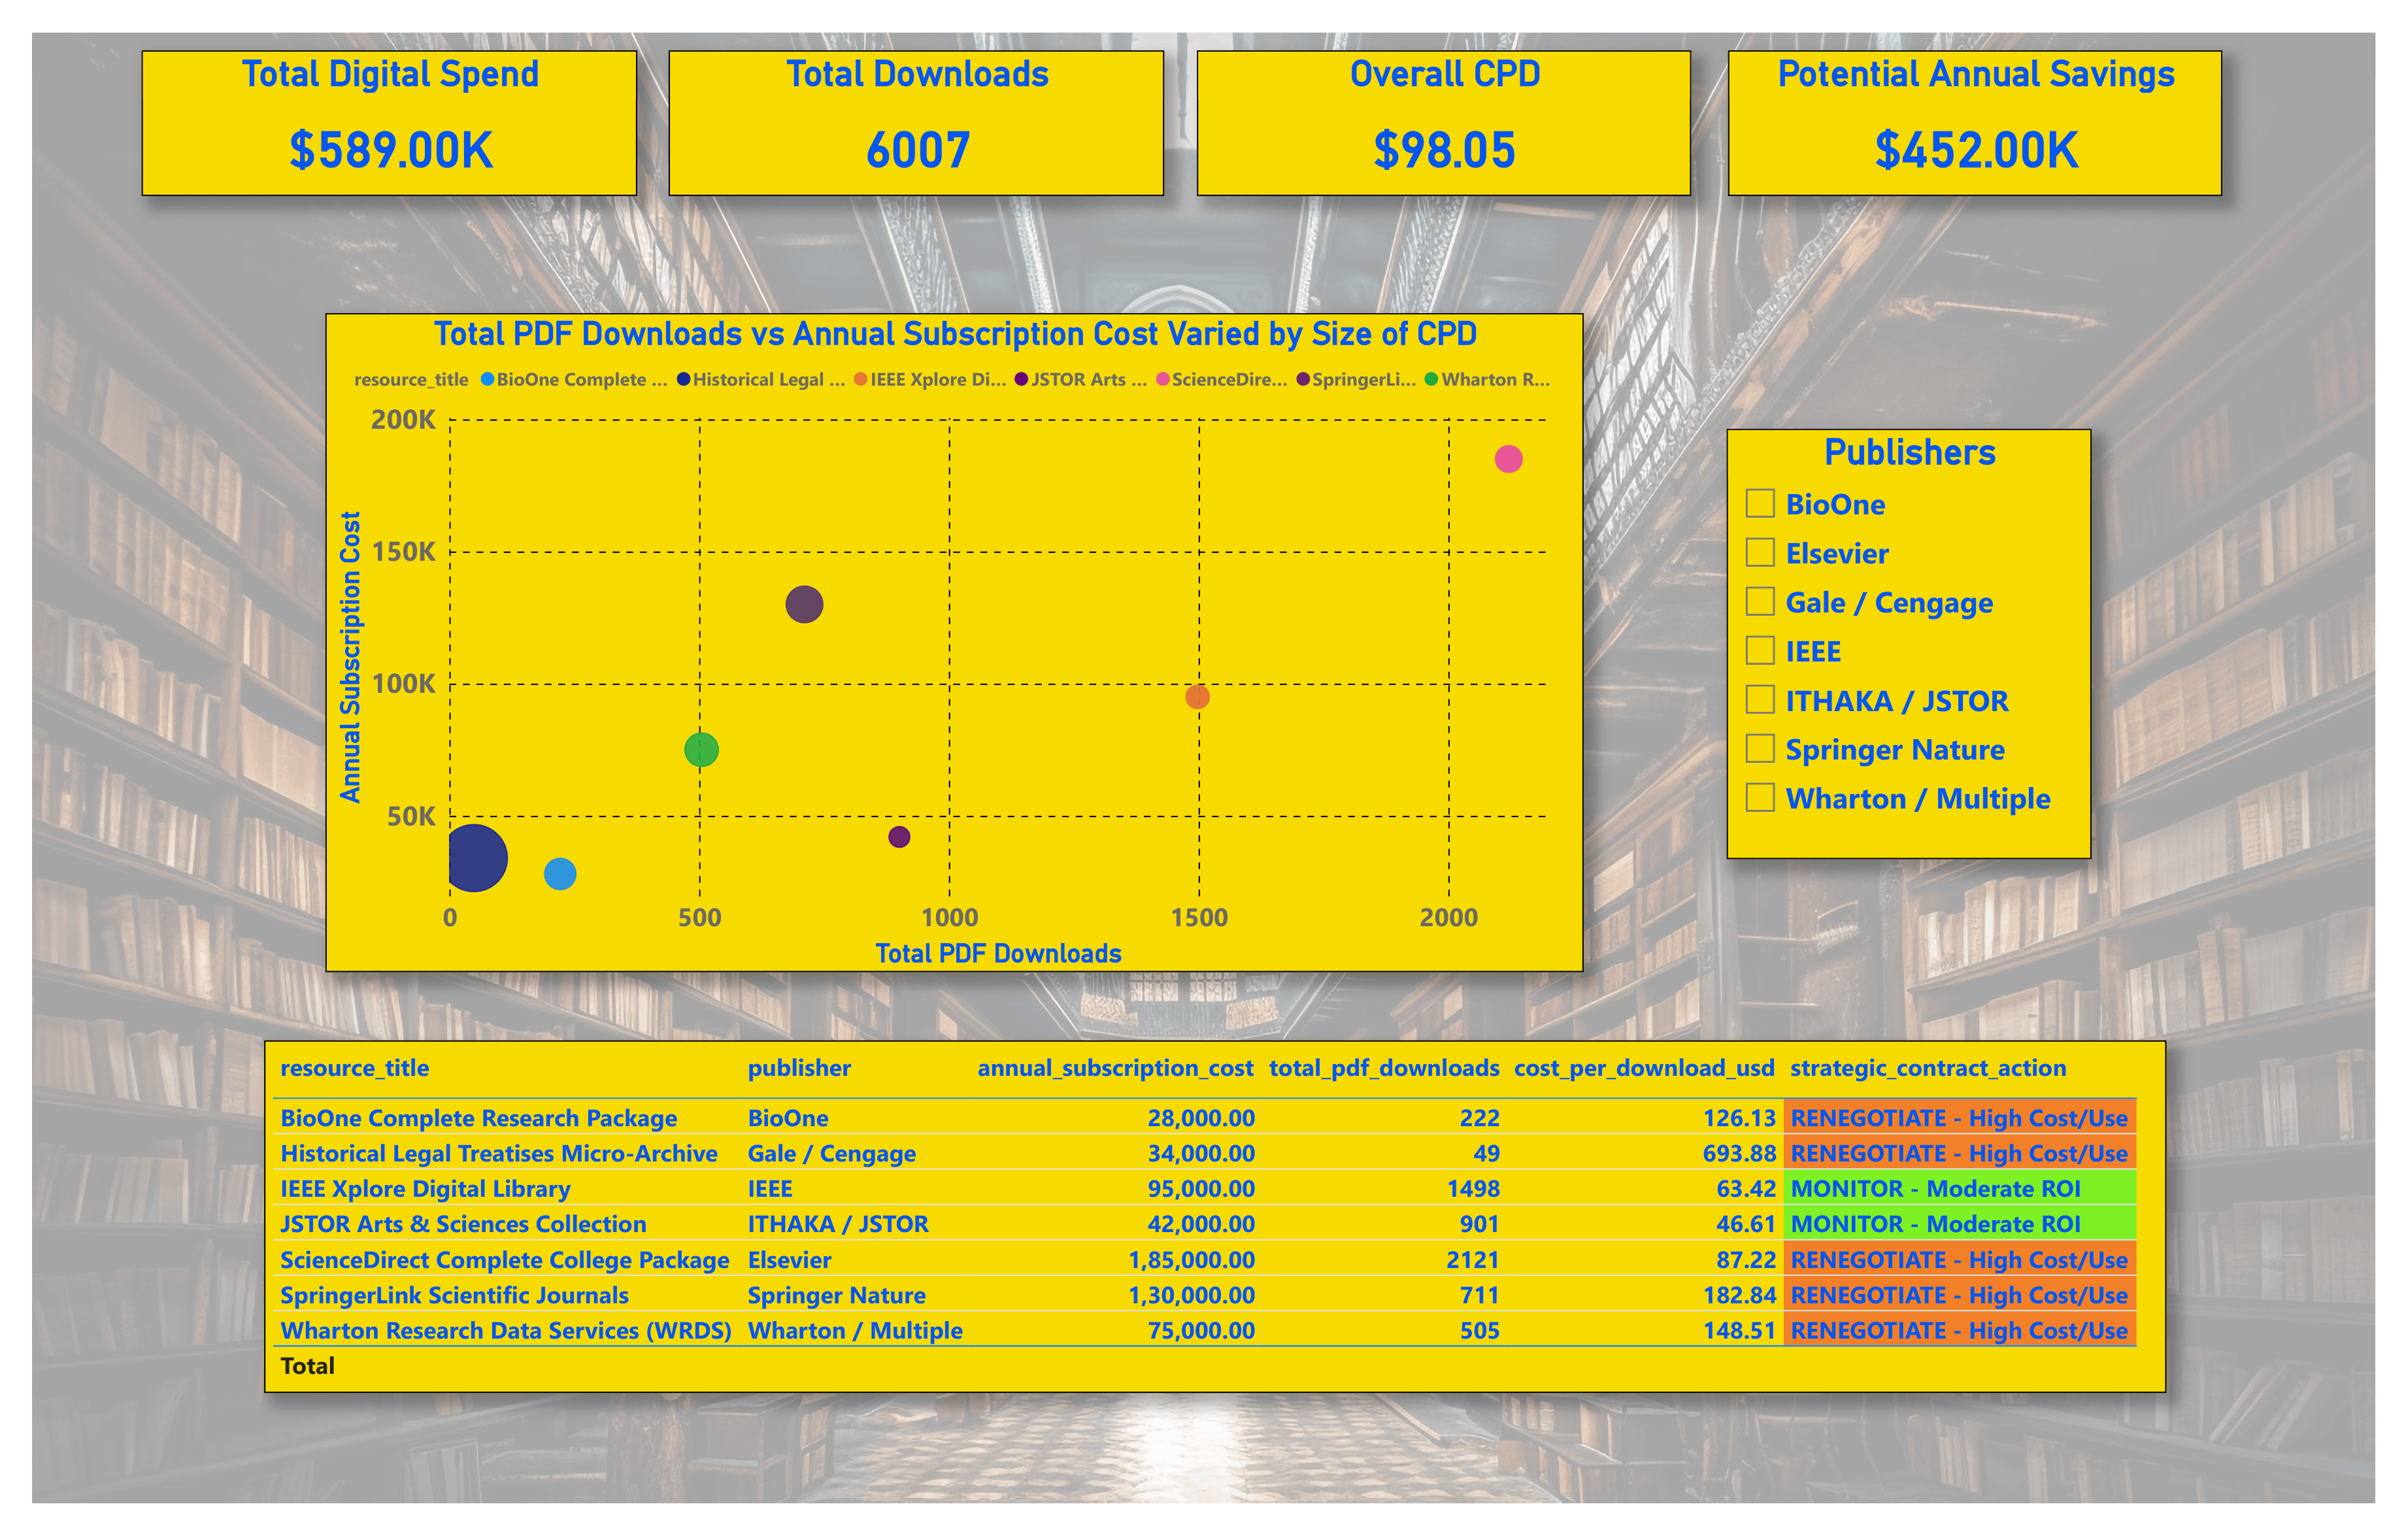

Layout of this report page (visuals, bound fields, positions):
{"tool":"powerbi","page":{"name":"Page 2: Digital ROI","canvas":[1720,1080],"ordinal":1},"visuals":[{"type":"card","title":"Total Digital Spend","fields":{"Values":["public view_kpi_publisher_roi.Total Digital Spend"]},"box":[80.1,13.1,363.7,107.3],"z":0},{"type":"card","title":"Total Downloads","fields":{"Values":["public view_kpi_publisher_roi.Total Downloads"]},"box":[466.9,13.1,363.7,107.3],"z":1000},{"type":"card","title":"Overall CPD","fields":{"Values":["public view_kpi_publisher_roi.Overall CPD"]},"box":[854.7,13.1,363.7,107.3],"z":2000},{"type":"card","title":"Potential Annual Savings","fields":{"Values":["public view_kpi_publisher_roi.Potential Annual Savings"]},"box":[1244.6,13.1,363.7,107.3],"z":3000},{"type":"slicer","title":"Publishers","fields":{"Values":["public dim_digital_resource.publisher"]},"box":[1244.3,291.4,267.3,315.5],"z":4000},{"type":"scatterChart","title":"Total PDF Downloads vs Annual Subscription Cost Varied by Size of CPD","fields":{"X":["Sum(public view_kpi_publisher_roi.total_pdf_downloads)"],"Y":["Sum(public view_kpi_publisher_roi.annual_subscription_cost)"],"Size":["Sum(public view_kpi_publisher_roi.cost_per_download_usd)"],"Series":["public view_kpi_publisher_roi.resource_title"]},"box":[214.7,205.9,924.5,484.1],"z":5000},{"type":"tableEx","fields":{"Values":["public view_kpi_publisher_roi.resource_title","public view_kpi_publisher_roi.publisher","public view_kpi_publisher_roi.annual_subscription_cost","public view_kpi_publisher_roi.total_pdf_downloads","public view_kpi_publisher_roi.cost_per_download_usd","public view_kpi_publisher_roi.strategic_contract_action"]},"box":[169.6,740.4,1397.6,258.5],"z":6000}]}

Visuals, with their boxes on the page's 1720x1080 design canvas (x1, y1, x2, y2). These are canvas units, not pixel positions in the 2408x1536 screenshot, which may show the page scaled, cropped or inside an application window:
"Total Digital Spend" card: {"left": 80, "top": 13, "right": 444, "bottom": 120}
"Total Downloads" card: {"left": 467, "top": 13, "right": 831, "bottom": 120}
"Overall CPD" card: {"left": 855, "top": 13, "right": 1218, "bottom": 120}
"Potential Annual Savings" card: {"left": 1245, "top": 13, "right": 1608, "bottom": 120}
"Publishers" slicer: {"left": 1244, "top": 291, "right": 1512, "bottom": 607}
"Total PDF Downloads vs Annual Subscription Cost Varied by Size of CPD" scatterChart: {"left": 215, "top": 206, "right": 1139, "bottom": 690}
tableEx - public view_kpi_publisher_roi.resource_title x public view_kpi_publisher_roi.publisher: {"left": 170, "top": 740, "right": 1567, "bottom": 999}
